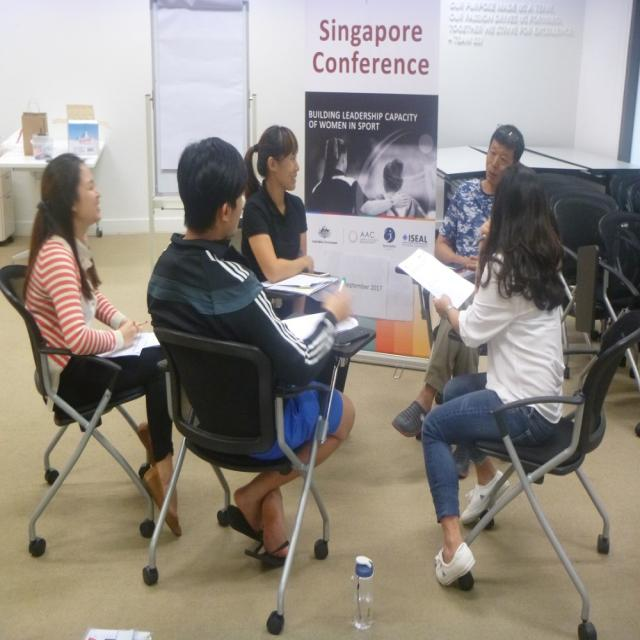body: (146, 133, 356, 566), (419, 160, 569, 590), (22, 150, 185, 544), (390, 124, 526, 478), (242, 124, 319, 317), (306, 126, 433, 220)
